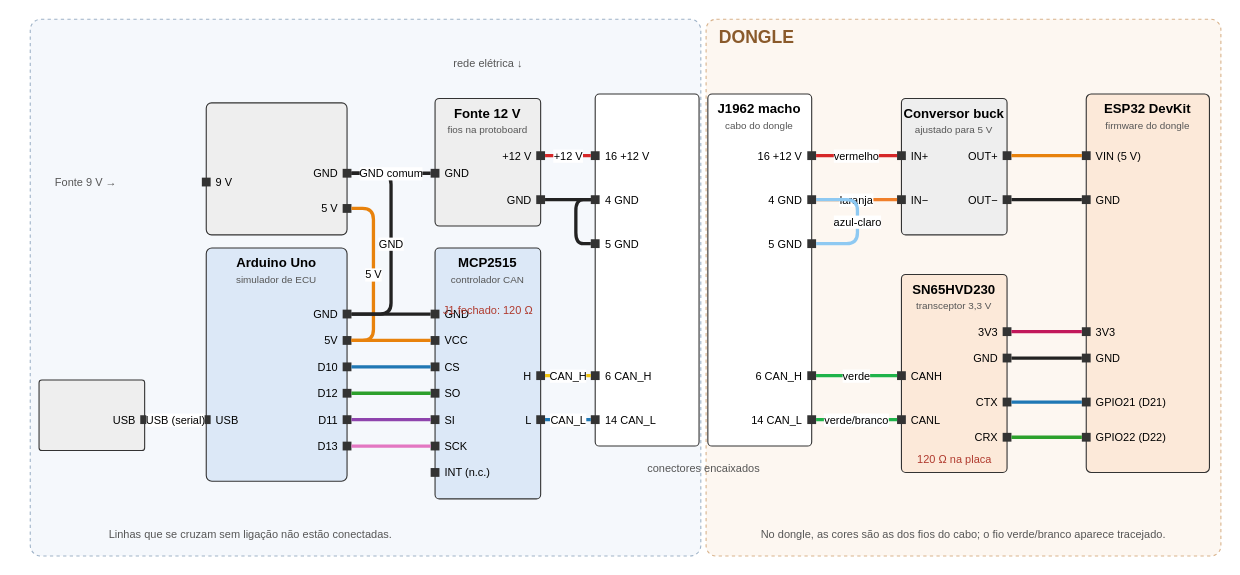
Image size: 1240x575. Some labels were removed from this diagram. Here are the shapes that lost their labels. From the top down, the box of each, then its label:
(205, 102, 347, 235): Módulo de alimentação entrada 9 V → saída 5 V
(29, 18, 701, 556): SIMULADOR (equivale ao carro)
(594, 93, 699, 446): J1962 fêmea lado simulador
(38, 379, 145, 450): Computador
